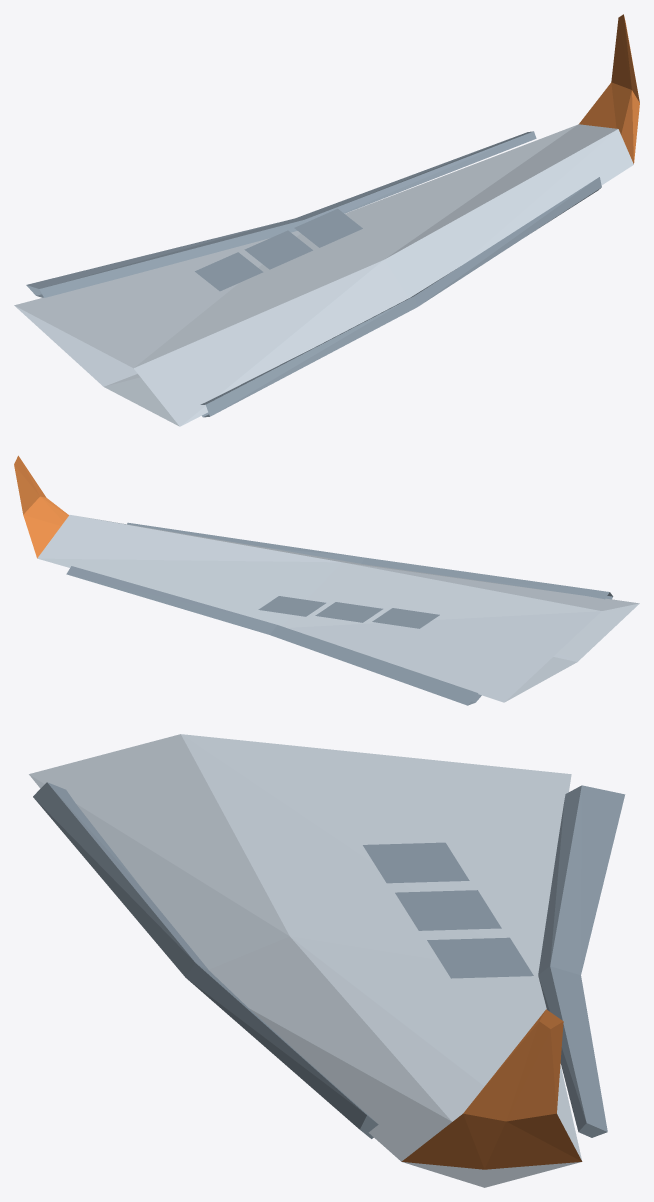
File: winglet.glb
3 renders of one model, top to bottom at view 1: azimuth 30°, elevation 25°; view 2: azimuth 150°, elevation 25°; view 3: azimuth 270°, elevation 25°, orthographic. The views are drawn at different scales.
Size of the model in its own units: 8.48 by 2.23 by 4.45.
